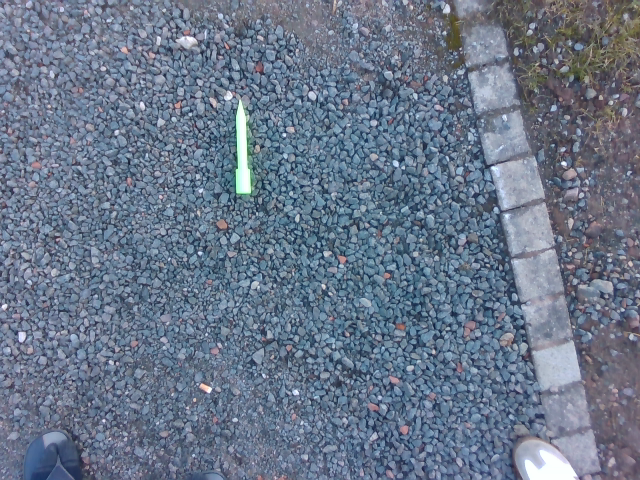Probe: (231, 91, 252, 201)
